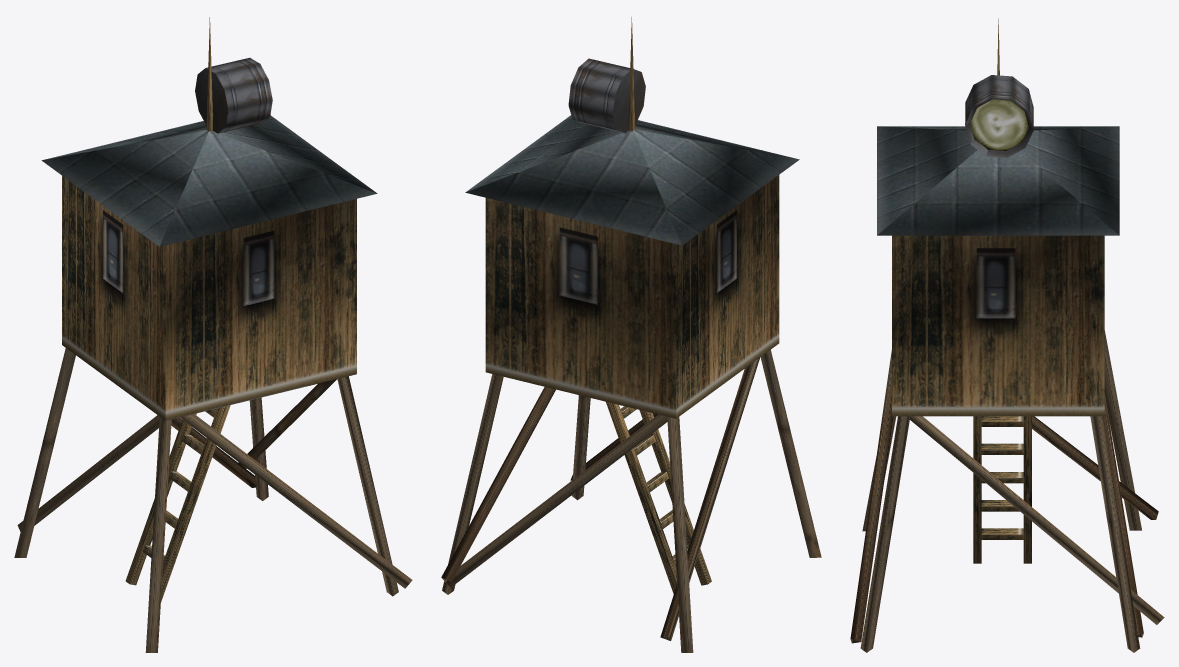
The model's file is Environment - Prop - TOWER - Night - PMTOWER_N.glb.
The picture shows the model from 3 angles, left to right: view 1: azimuth 30°, elevation 25°; view 2: azimuth 150°, elevation 25°; view 3: azimuth 270°, elevation 25°; orthographic projection. The views are drawn at different scales.
Parts seen in each view (by area): view 1: PMTOWER_N; view 2: PMTOWER_N; view 3: PMTOWER_N.
Boxes of the visible parts, x1,y1,x2,y2 form: PMTOWER_N: [14, 17, 412, 652]; PMTOWER_N: [441, 17, 821, 652]; PMTOWER_N: [850, 18, 1164, 652].
Size of the model in its own units: 25.53 by 53.19 by 26.09.
1 material, 1 textured.
